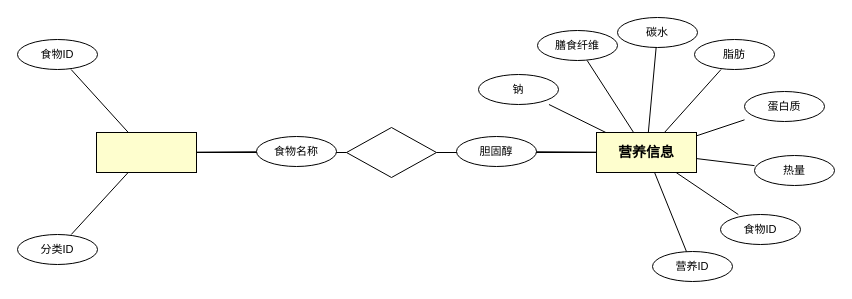
This 852x299 diagram has some shape labels left out. The box of each missing label's shape, as (x1, y1, x2, y2) in pixels:
对应: (346, 126, 436, 178)
食物信息: (96, 132, 196, 172)
